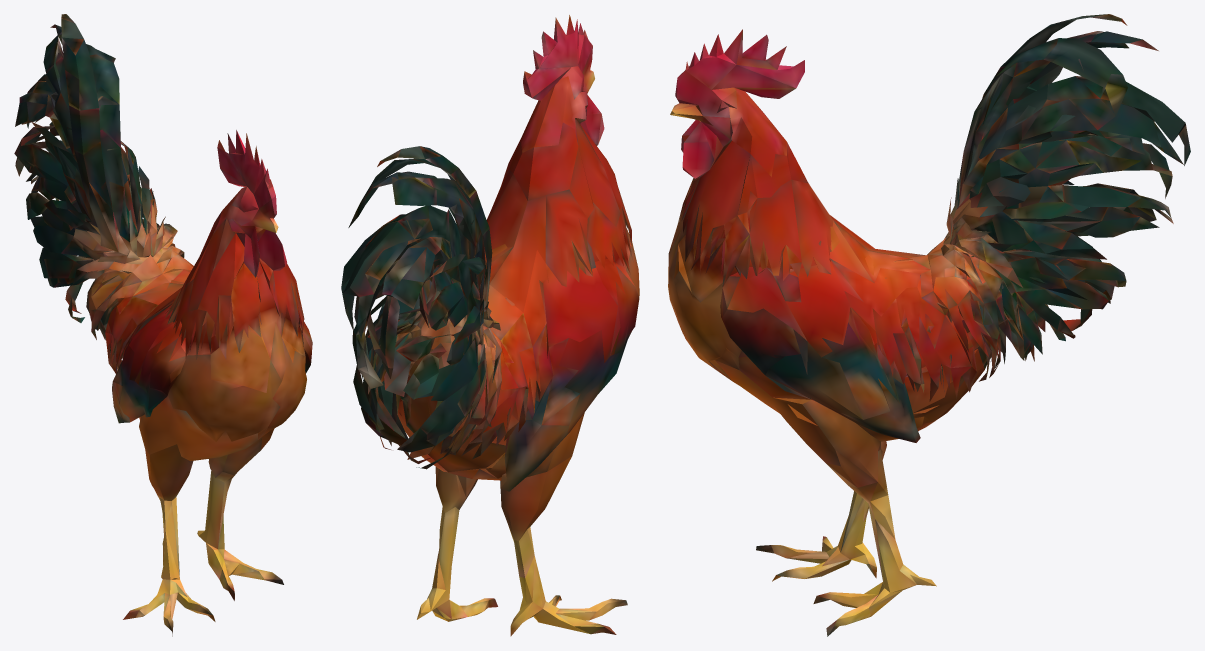
The model's file is rooster.glb.
3 views of the same model, side by side, from view 1: azimuth 30°, elevation 25°; view 2: azimuth 150°, elevation 25°; view 3: azimuth 270°, elevation 25° (orthographic). The views are drawn at different scales.
Bounding box in the file's own units: 0.6712 × 1.91 × 1.59.
1 material, 1 textured.
